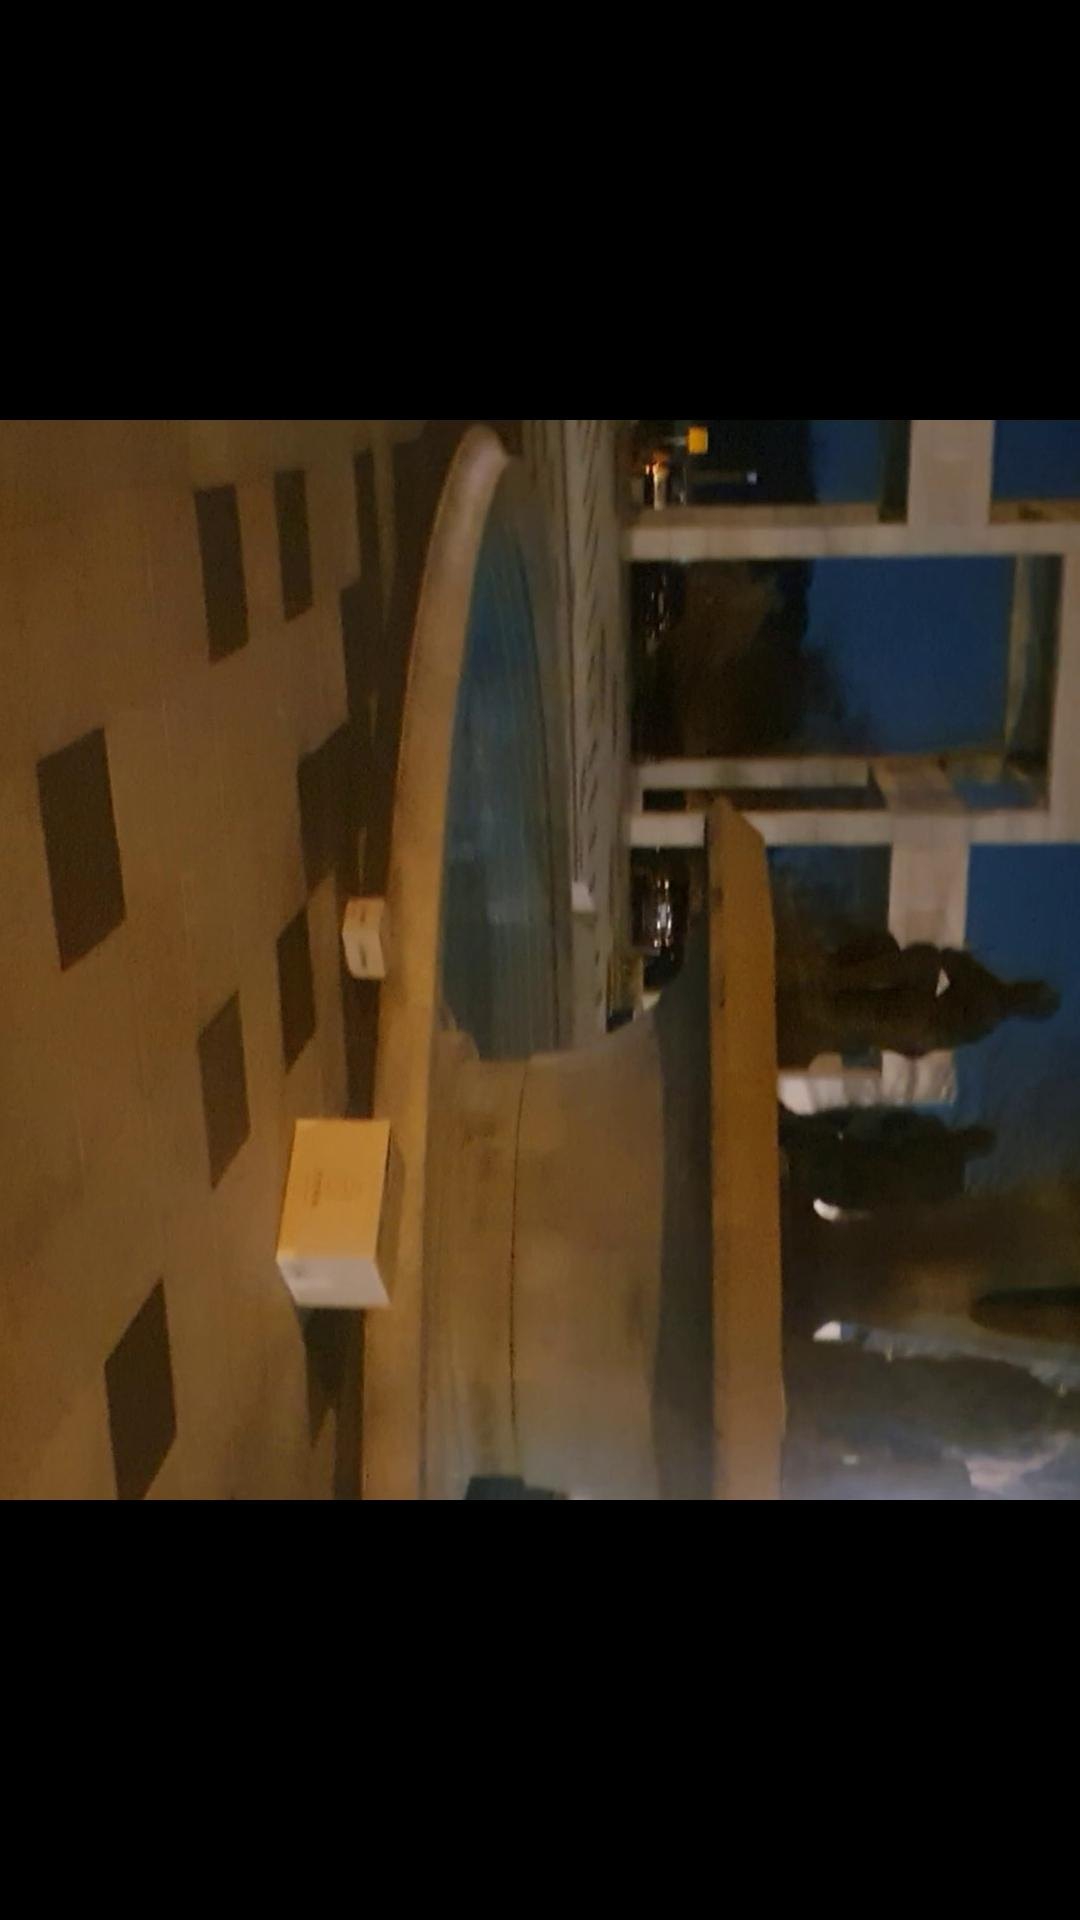Box: (268, 1096, 425, 1309), (327, 901, 407, 985)
